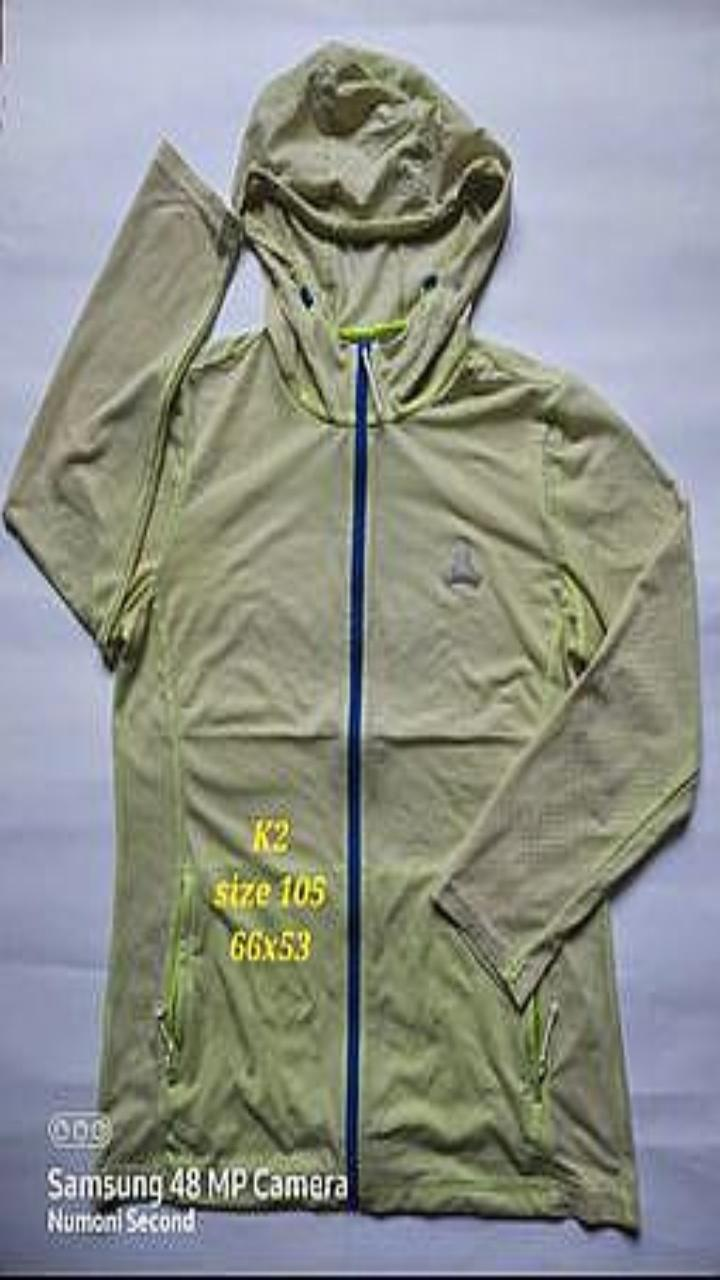Sports_Jacket: (3, 41, 699, 1230)
